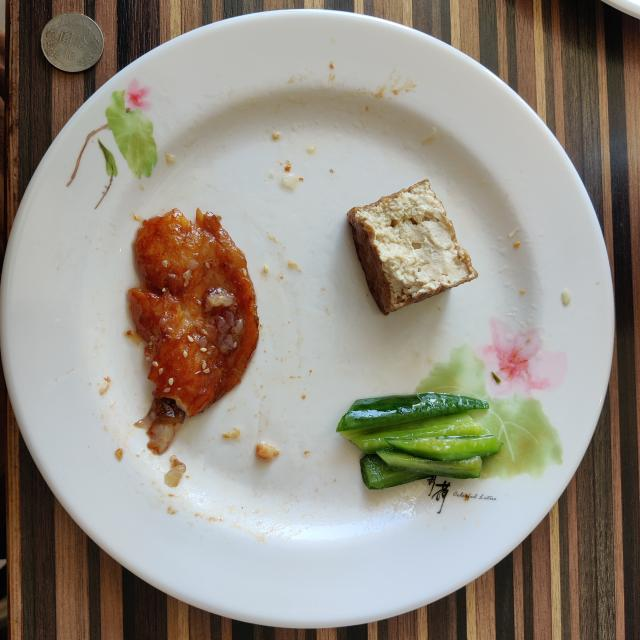Kabayaki sea bream fillet: (129, 209, 259, 454)
coin: (41, 12, 104, 72)
cucumber: (338, 392, 501, 489)
egg tofu: (348, 180, 478, 315)
